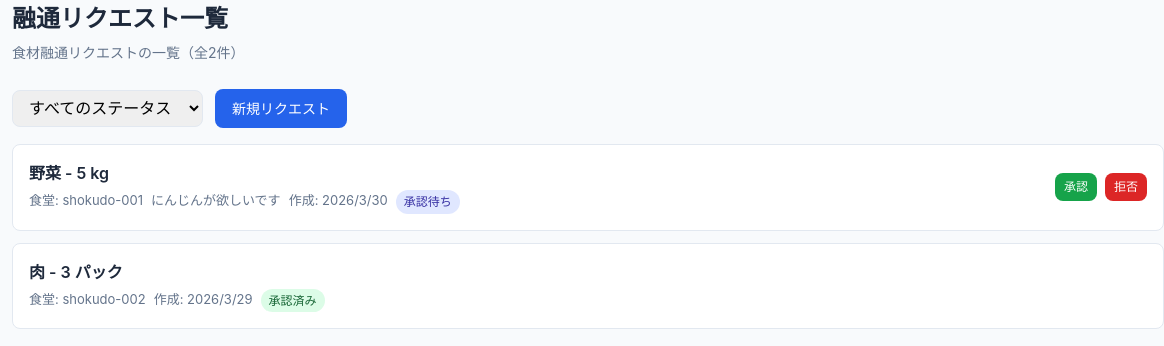
Test: FusionRequestList › 一致する食品がない場合はメッセージを表示し確定できない
Click the button "承認".
click(1076, 187)  # box [1055,173,1097,201]
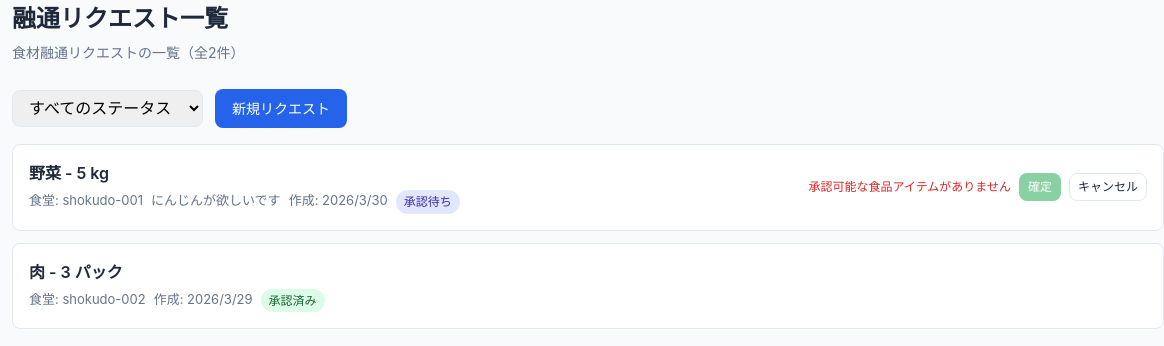
Now the text "承認可能な食品アイテムがありません" is shown, box [808,177,1011,201]
Now the button "確定" is disabled, box [1019,173,1061,201]
